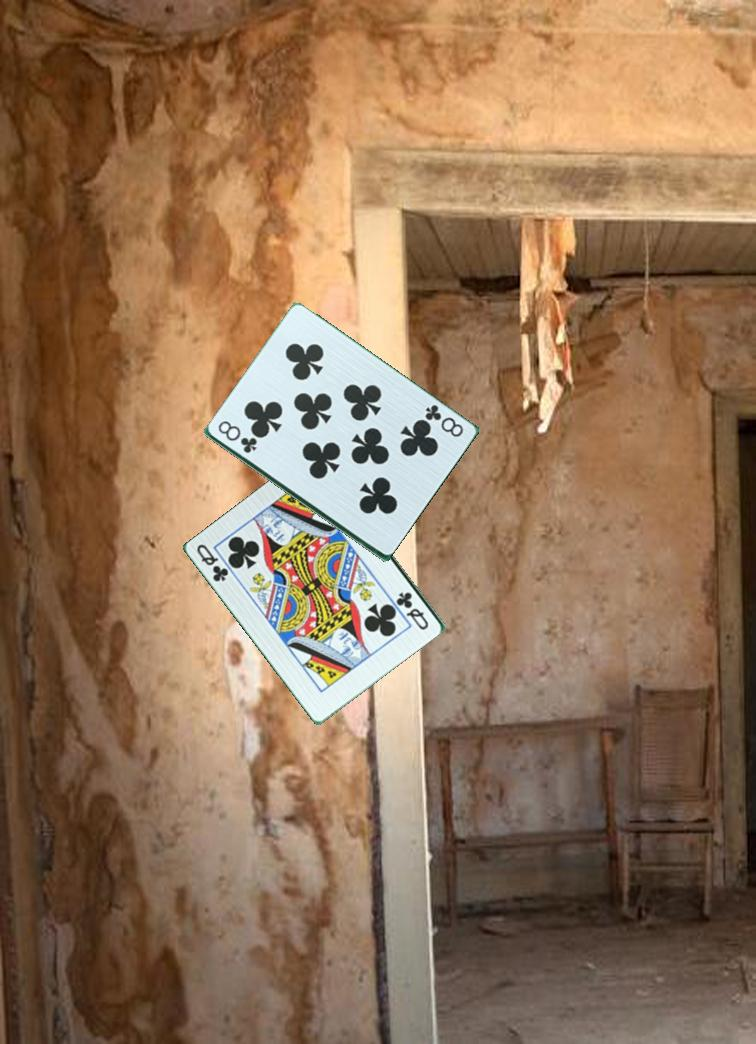8c: (419, 401, 466, 440), (214, 417, 259, 457)
qc: (193, 540, 232, 585), (394, 588, 432, 633)
